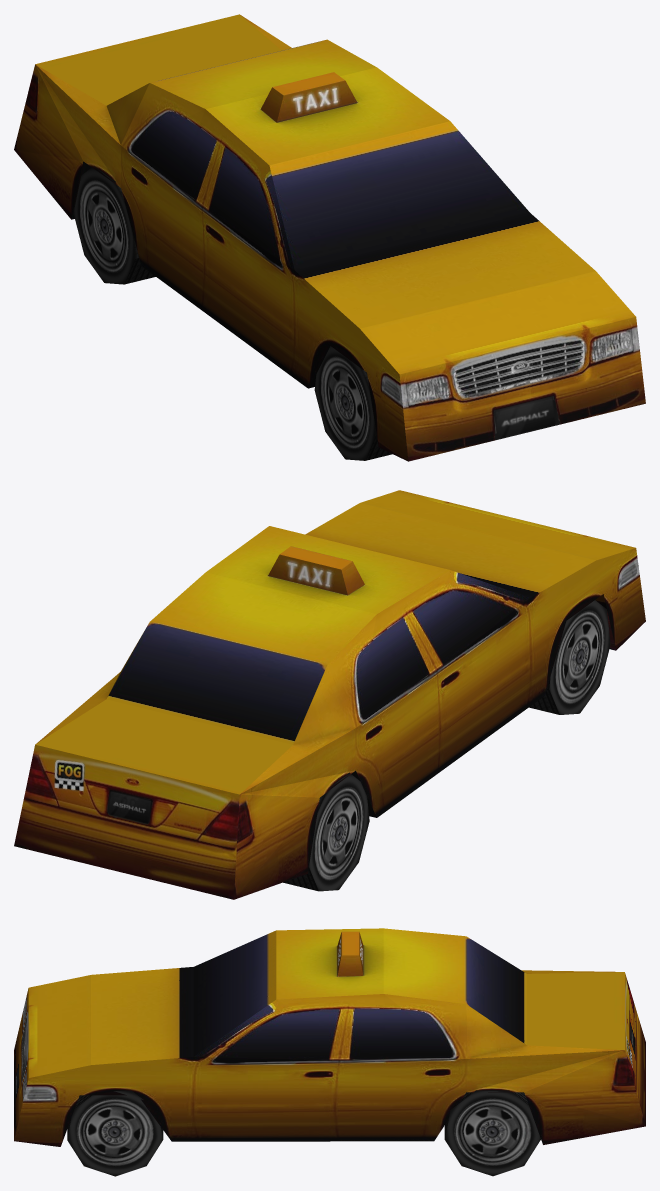
Rendered from traffic.glb.
The picture shows the model from 3 angles, top to bottom: view 1: azimuth 30°, elevation 25°; view 2: azimuth 150°, elevation 25°; view 3: azimuth 270°, elevation 25°; orthographic projection. The views are drawn at different scales.
Parts seen in each view (by area): view 1: Object_7, Object_4, Object_3; view 2: Object_7, Object_4, Object_3; view 3: Object_7, Object_5, Object_6.
Boxes of the visible parts, x1,y1,x2,y2 form: Object_7: [14, 14, 645, 461]; Object_4: [73, 166, 155, 284]; Object_3: [314, 346, 392, 460]; Object_7: [14, 490, 645, 899]; Object_4: [283, 772, 369, 891]; Object_3: [529, 600, 610, 714]; Object_7: [14, 928, 645, 1146]; Object_5: [444, 1090, 540, 1176]; Object_6: [67, 1090, 163, 1176].
Size of the model in its own units: 143 by 137 by 421.
Materials: 5 (5 with a texture image).
